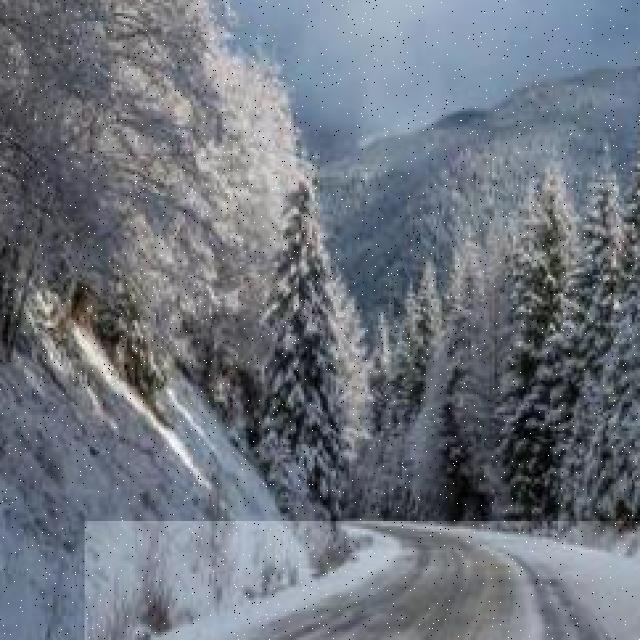ice-road: (207, 523, 632, 640)
